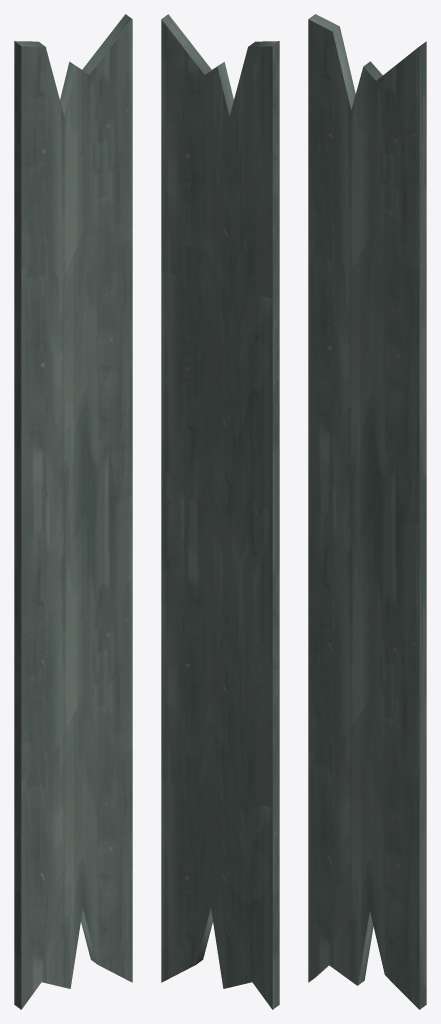
File: SM_ENV_KNFRST_WoodParts_E.FBX
3 views of the same model, side by side, from view 1: azimuth 30°, elevation 25°; view 2: azimuth 150°, elevation 25°; view 3: azimuth 330°, elevation 25° (orthographic).
Parts seen in each view (by area): view 1: SM_ENV_KNFRST_WoodParts_E; view 2: SM_ENV_KNFRST_WoodParts_E; view 3: SM_ENV_KNFRST_WoodParts_E.
Boxes of the visible parts, <box> form: SM_ENV_KNFRST_WoodParts_E: <box>14,14,132,1009</box>; SM_ENV_KNFRST_WoodParts_E: <box>161,14,279,1009</box>; SM_ENV_KNFRST_WoodParts_E: <box>308,14,426,1009</box>.
Size of the model in its own units: 90 by 746 by 10.
